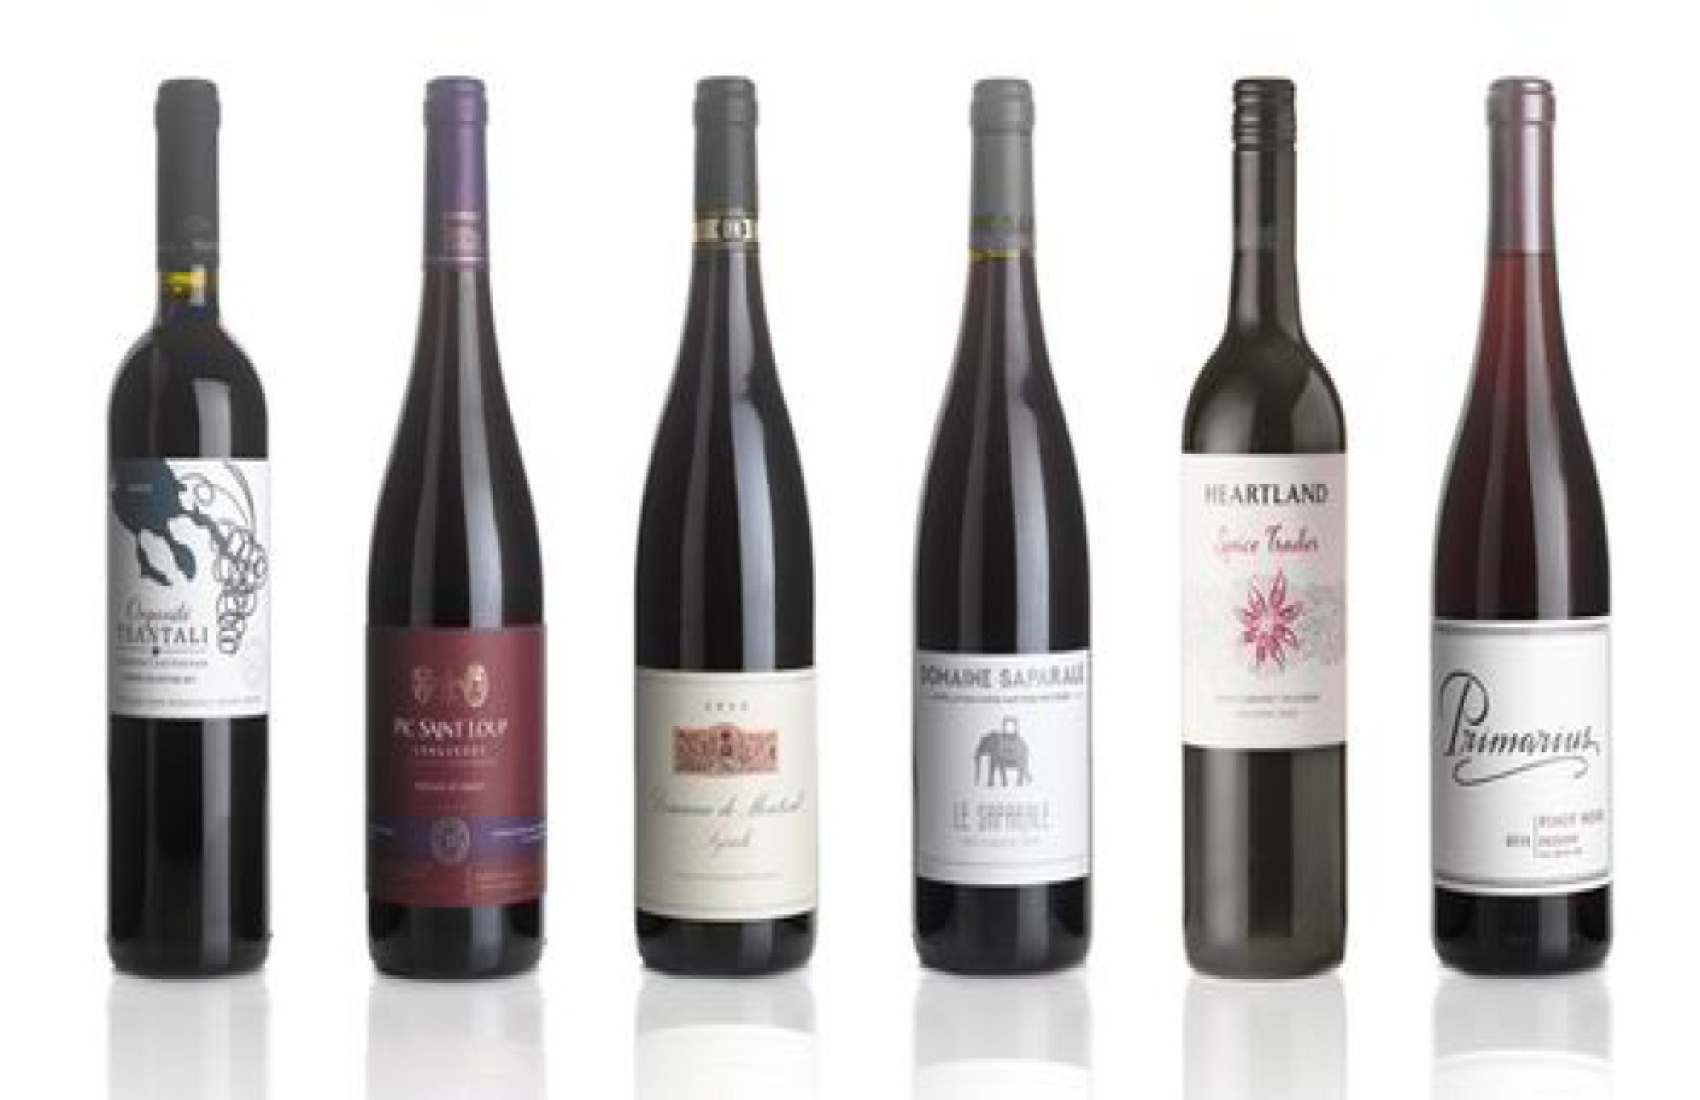wine: (634, 71, 815, 972), (917, 57, 1097, 960), (1166, 68, 1346, 971), (1447, 59, 1627, 962), (353, 64, 533, 967), (90, 77, 270, 980)
